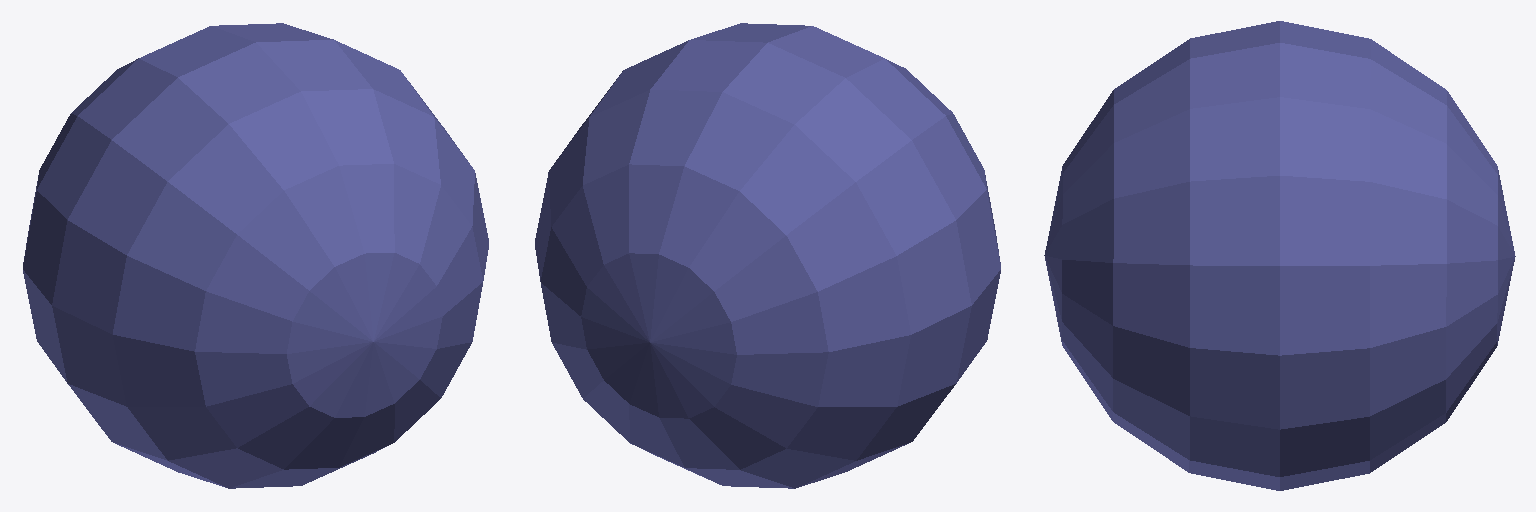
Rendered from MysticOrb05.obj.
3 renders of one model, left to right at view 1: azimuth 30°, elevation 25°; view 2: azimuth 150°, elevation 25°; view 3: azimuth 270°, elevation 25°, orthographic.
Parts seen in each view (by area): view 1: OuterLayer; view 2: OuterLayer; view 3: OuterLayer.
Boxes of the visible parts, <box> form: OuterLayer: <box>23,23,488,488</box>; OuterLayer: <box>535,23,1000,488</box>; OuterLayer: <box>1044,21,1515,490</box>.
Bounding box in the file's own units: 5.47 × 5.47 × 5.47.